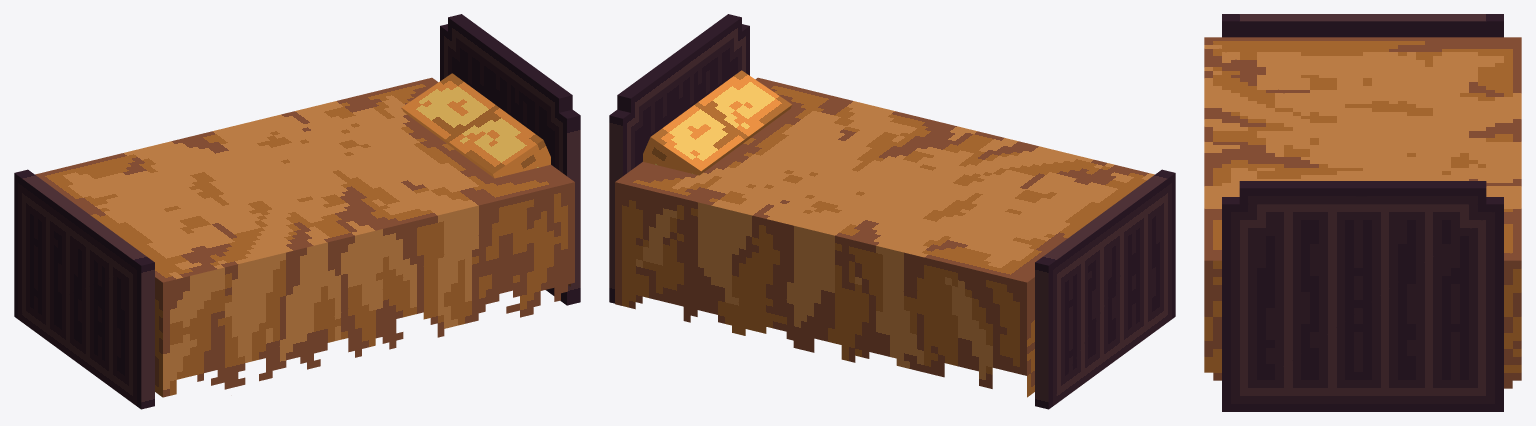
File: bed.gltf
3 renders of one model, left to right at view 1: azimuth 30°, elevation 25°; view 2: azimuth 150°, elevation 25°; view 3: azimuth 270°, elevation 25°, orthographic. The views are drawn at different scales.
Parts seen in each view (by area): view 1: cube (×5); view 2: cube (×5); view 3: cube (×4).
Part boxes in pixels (x1,y1,x2,y2): cube (×5): (14, 14, 580, 409); cube (×5): (609, 14, 1175, 409); cube (×4): (1204, 14, 1521, 411).
Size of the model in its own units: 4 by 1.75 by 2.25.
Materials: 1 (1 with a texture image).
